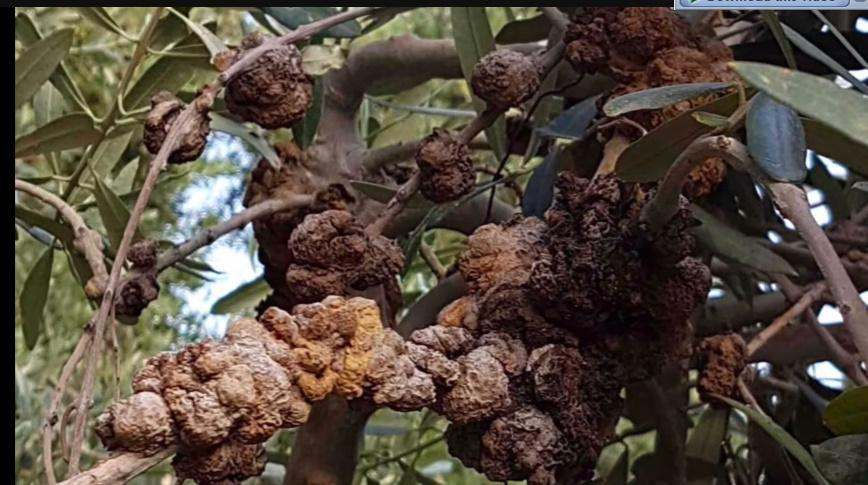Tuberculosis: (83, 297, 442, 479), (424, 223, 643, 462), (570, 0, 762, 164), (655, 211, 739, 416), (220, 50, 346, 144), (284, 216, 404, 300), (74, 235, 175, 323), (456, 39, 569, 105), (407, 112, 480, 213), (136, 96, 217, 168), (640, 468, 642, 480)
